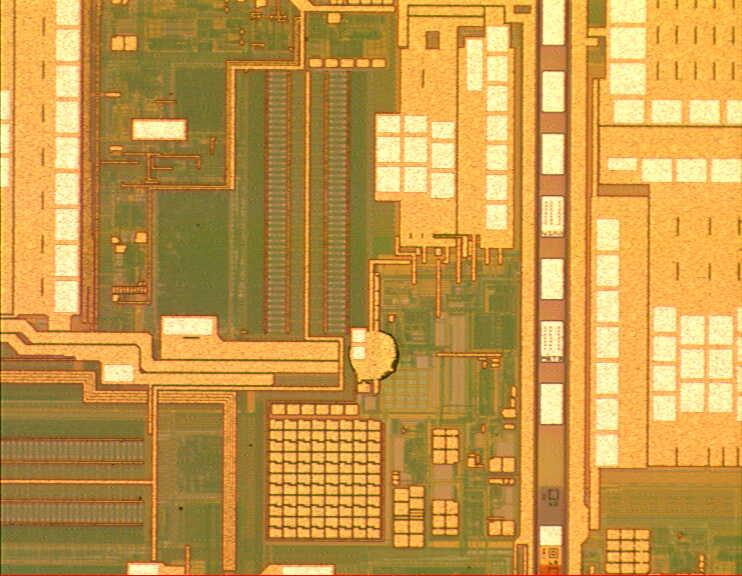BLOCK ETCH: (344, 324, 405, 392)
